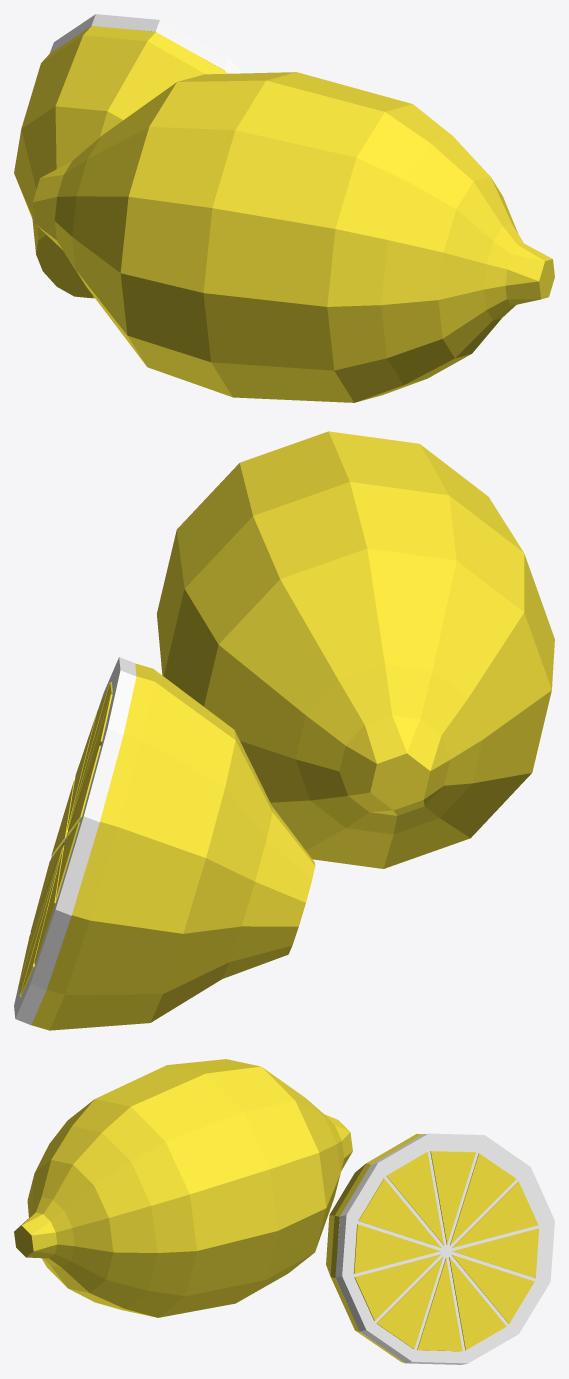
The model's file is Lemon.glb.
3 renders of one model, top to bottom at view 1: azimuth 30°, elevation 25°; view 2: azimuth 150°, elevation 25°; view 3: azimuth 270°, elevation 25°, orthographic. The views are drawn at different scales.
Visible parts, largest first — view 1: Node; view 2: Node; view 3: Node.
Boxes of the visible parts, x1,y1,x2,y2 form: Node: (14, 14, 554, 402); Node: (14, 431, 554, 1030); Node: (14, 1059, 554, 1364).
Bounding box in the file's own units: 0.2434 × 0.2401 × 0.4545.
